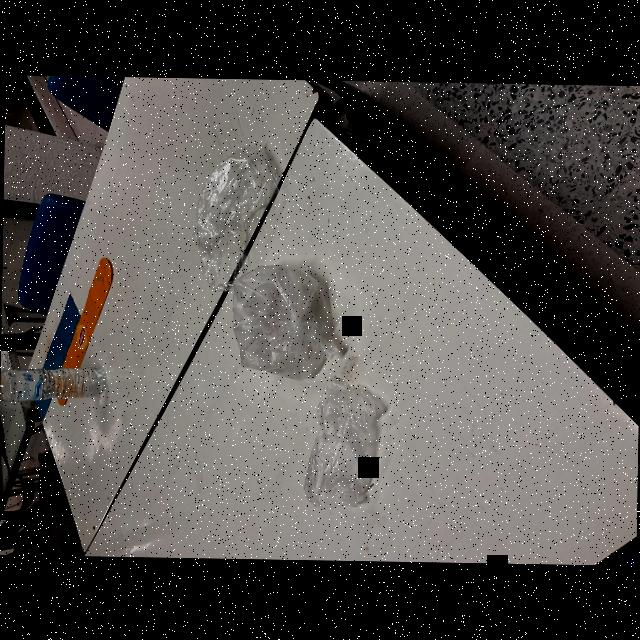plastic_bag: (225, 245, 342, 384), (182, 137, 274, 294)
scrap_plastic: (292, 365, 383, 522)
